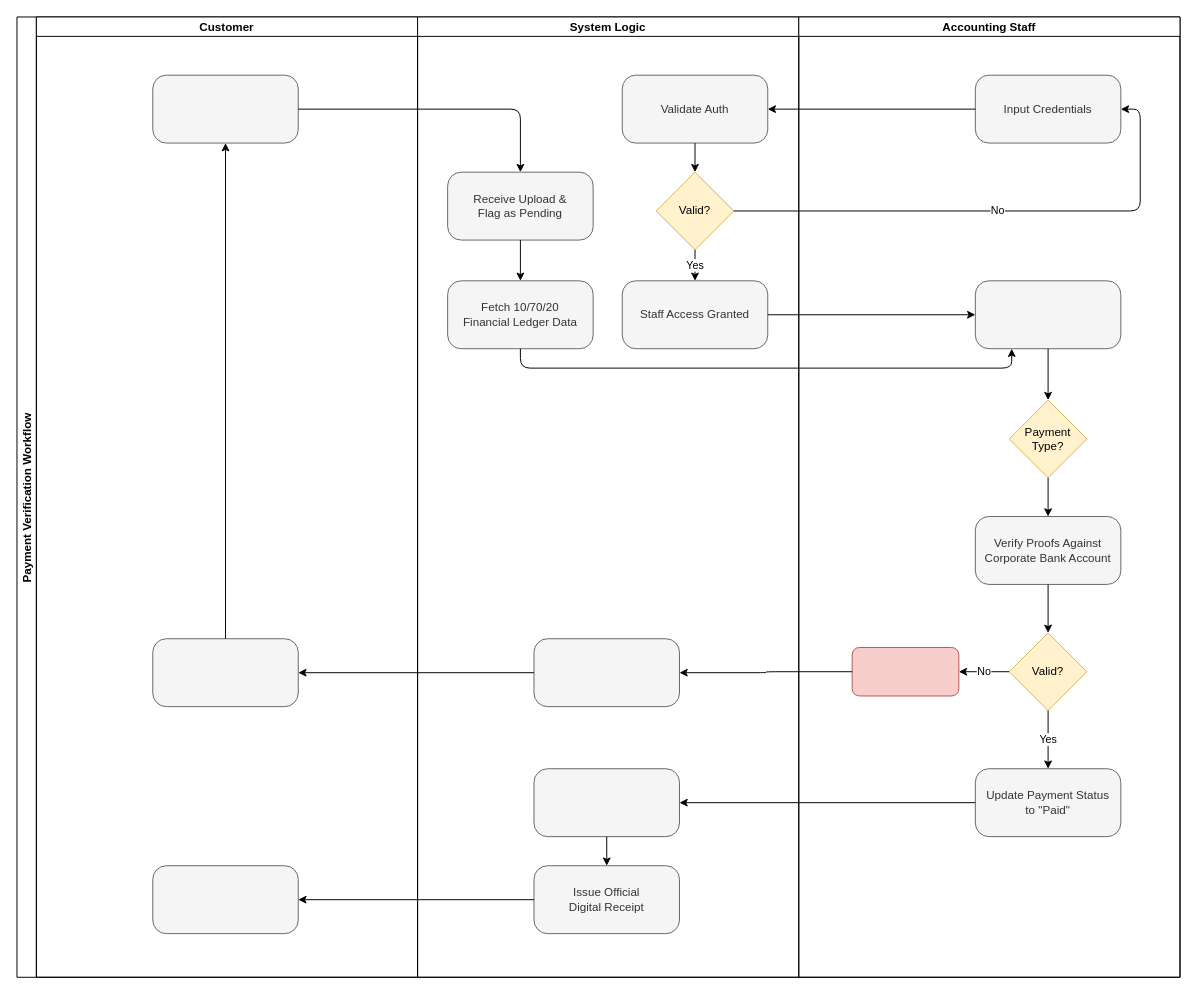
Some shapes in this 1197 by 994 pixel diagram are drawn without their labels. The centre of each missing label's shape, as x and y in pixels:
Email Client Rejection Notification: pixel 606 672
Receive Rejection: pixel 225 672
Receive/Download Digital Receipt: pixel 225 899
Reject Payment: pixel 905 671
Update Master Financial Ledger Database: pixel 606 802
Upload Proof of Payment (70% or 20% Tranche): pixel 225 108
View Pending Payment Queue: pixel 1047 314
